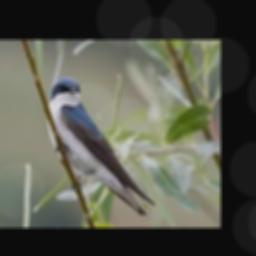Swallow: (47, 77, 156, 216)
